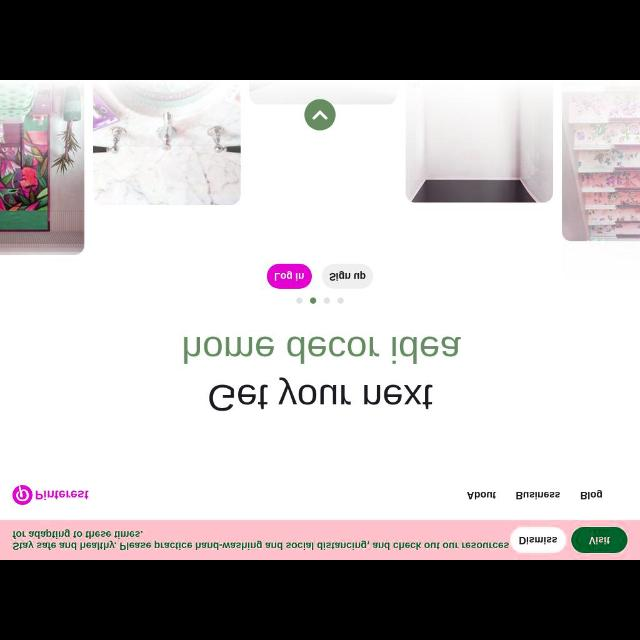backgroundimage: (1, 82, 640, 520)
icon: (304, 99, 336, 129)
image: (13, 485, 33, 505)
pageindicator: (296, 298, 344, 304)
text: (184, 336, 462, 364), (210, 378, 432, 410), (12, 540, 510, 550), (13, 529, 143, 539), (37, 490, 89, 500), (330, 271, 366, 281), (516, 492, 560, 500), (519, 537, 557, 545), (276, 271, 304, 281), (467, 492, 495, 500), (582, 490, 602, 500), (588, 536, 610, 544)
textbutton: (510, 527, 566, 553), (571, 527, 627, 553), (266, 264, 312, 288), (324, 265, 372, 287)
